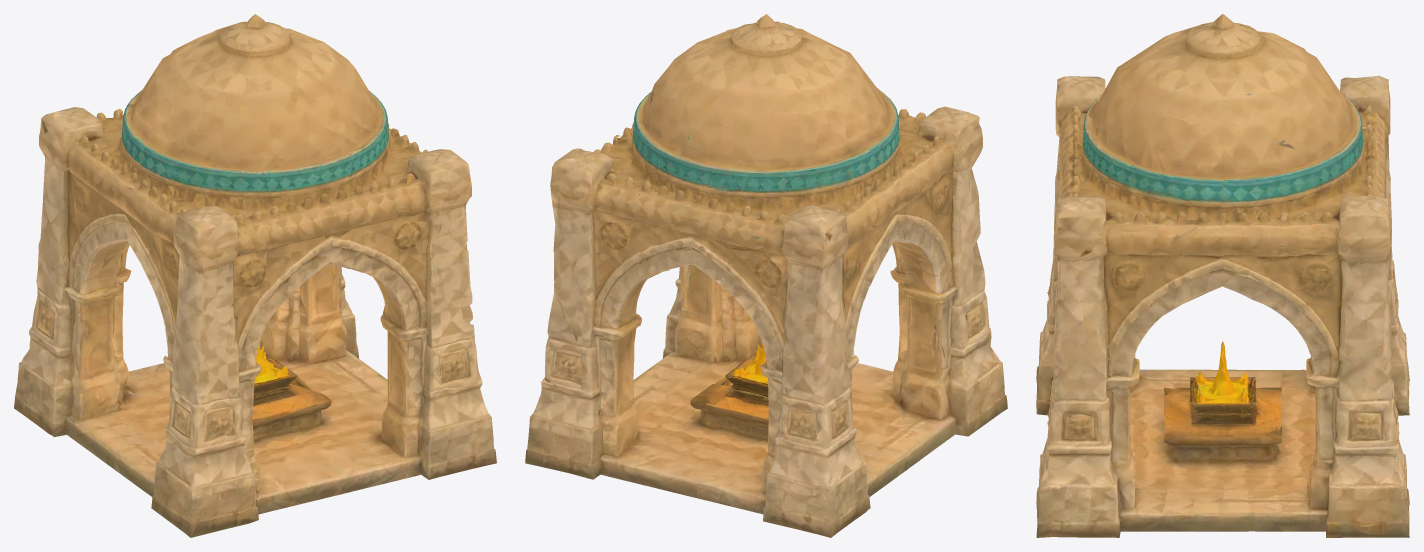
Rendered from ChaharTaq.glb.
3 renders of one model, left to right at view 1: azimuth 30°, elevation 25°; view 2: azimuth 150°, elevation 25°; view 3: azimuth 270°, elevation 25°, orthographic. The views are drawn at different scales.
Size of the model in its own units: 1.44 by 1.9 by 1.44.
1 material, 1 textured.
